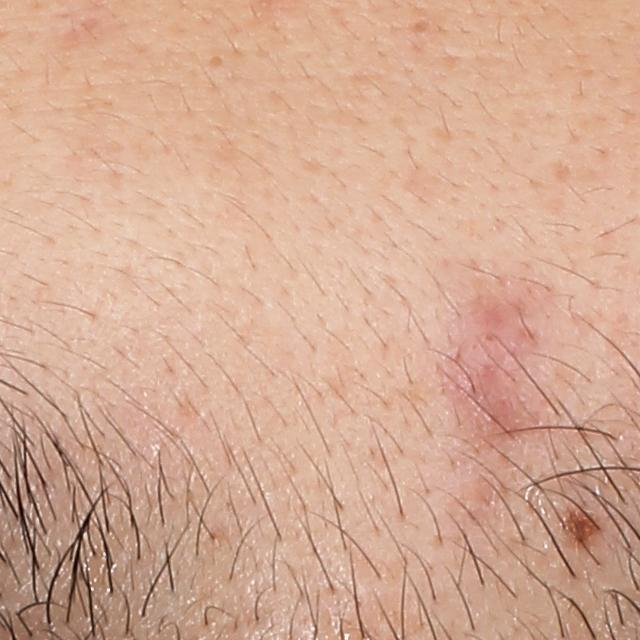comedo: (411, 15, 438, 40), (206, 51, 227, 72)
nevus: (554, 502, 607, 556)
